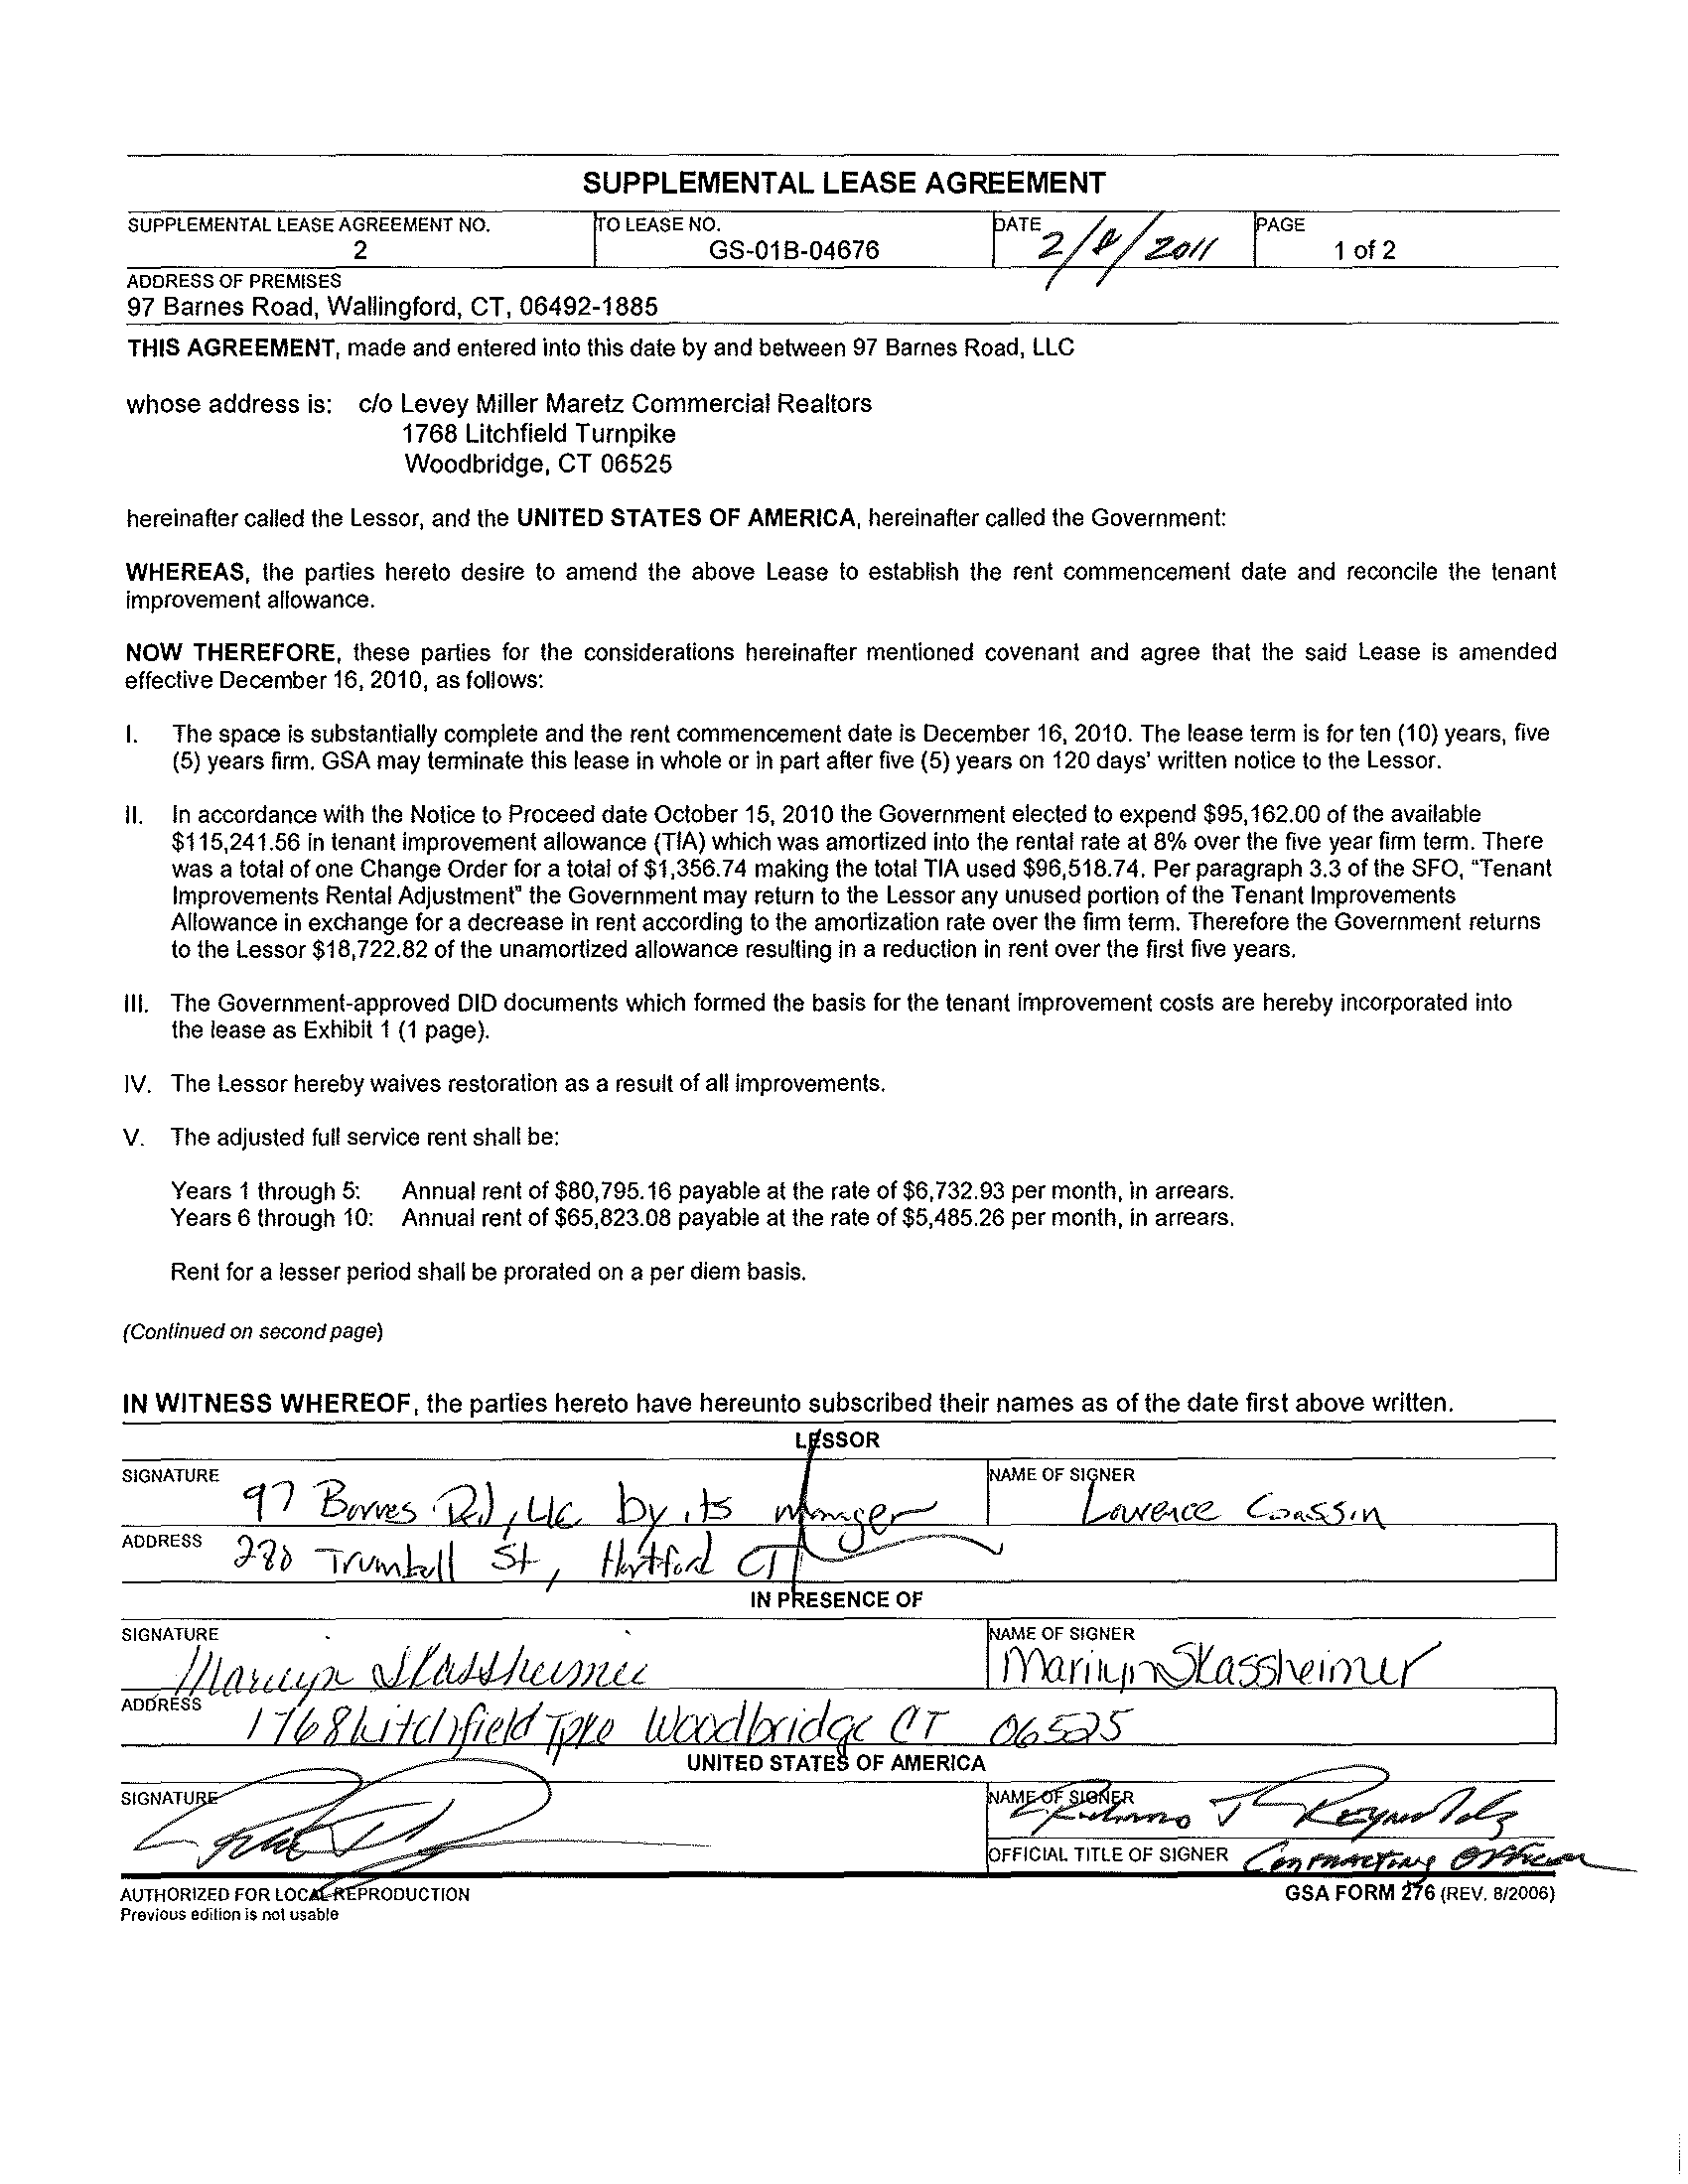handwritten: (1002, 1776, 1679, 1883), (129, 1760, 743, 1876), (239, 1526, 1059, 1592), (227, 1466, 965, 1535), (250, 1695, 1151, 1748), (996, 1643, 1459, 1689), (179, 1652, 686, 1693), (1060, 1486, 1420, 1532), (1035, 204, 1231, 284)
